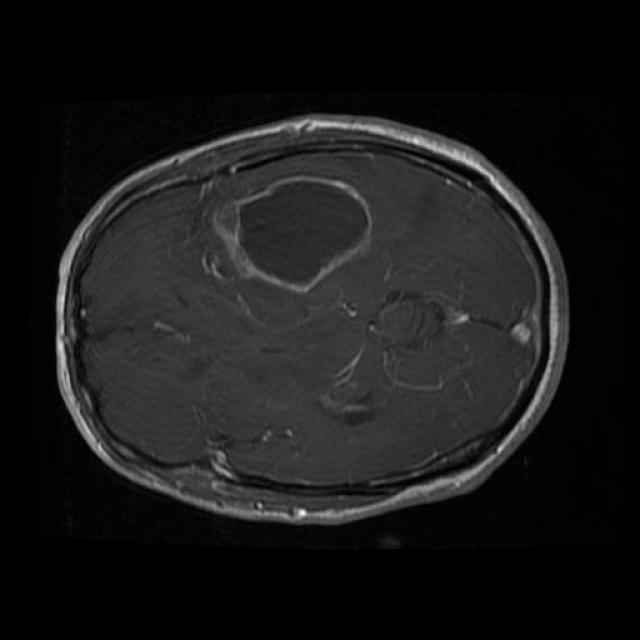Glioma: (209, 174, 372, 294)
